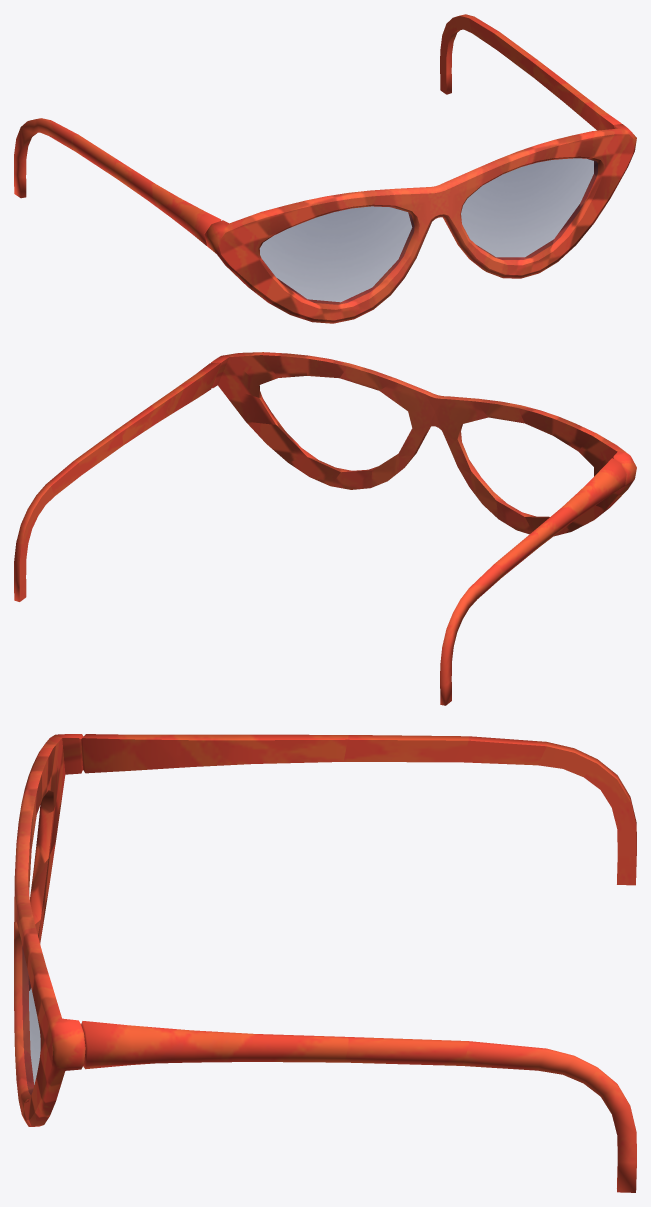
3 views of the same model, one above another, from view 1: azimuth 30°, elevation 25°; view 2: azimuth 150°, elevation 25°; view 3: azimuth 270°, elevation 25° (orthographic). The views are drawn at different scales.
Visible parts, largest first — view 1: Wolf3D_Glasses; view 2: Wolf3D_Glasses; view 3: Wolf3D_Glasses.
Part boxes in pixels (x1=…): Wolf3D_Glasses: x1=14, y1=14, x2=636, y2=323; Wolf3D_Glasses: x1=14, y1=352, x2=636, y2=705; Wolf3D_Glasses: x1=14, y1=734, x2=636, y2=1192.
Size of the model in its own units: 0.1603 by 0.0443 by 0.1352.
Materials: 1 (1 with a texture image).
